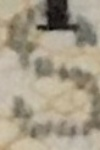S: (0, 0, 99, 149)
